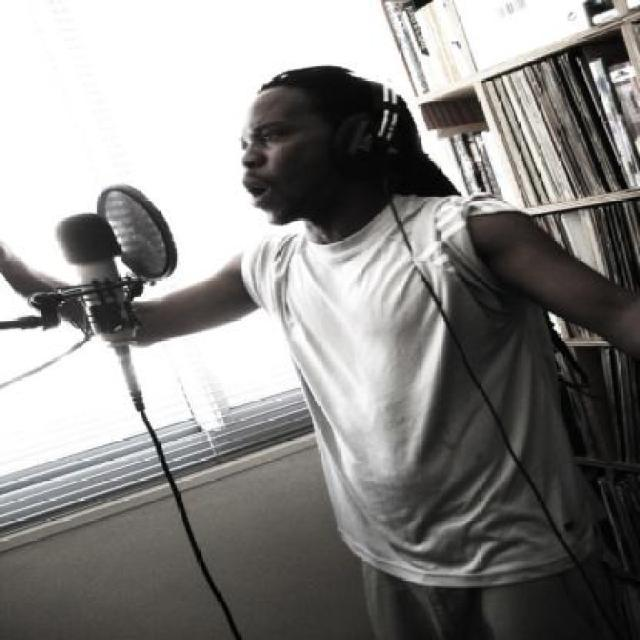earphone: (332, 70, 413, 203)
